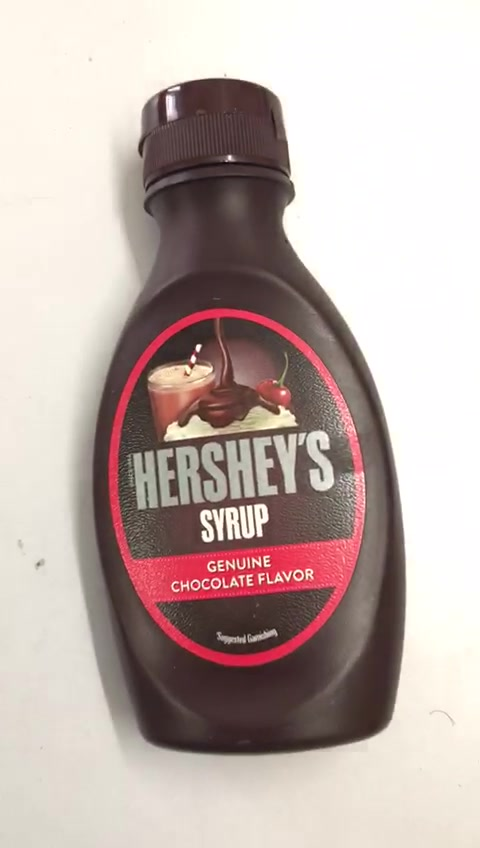hershey: (91, 81, 411, 759)
